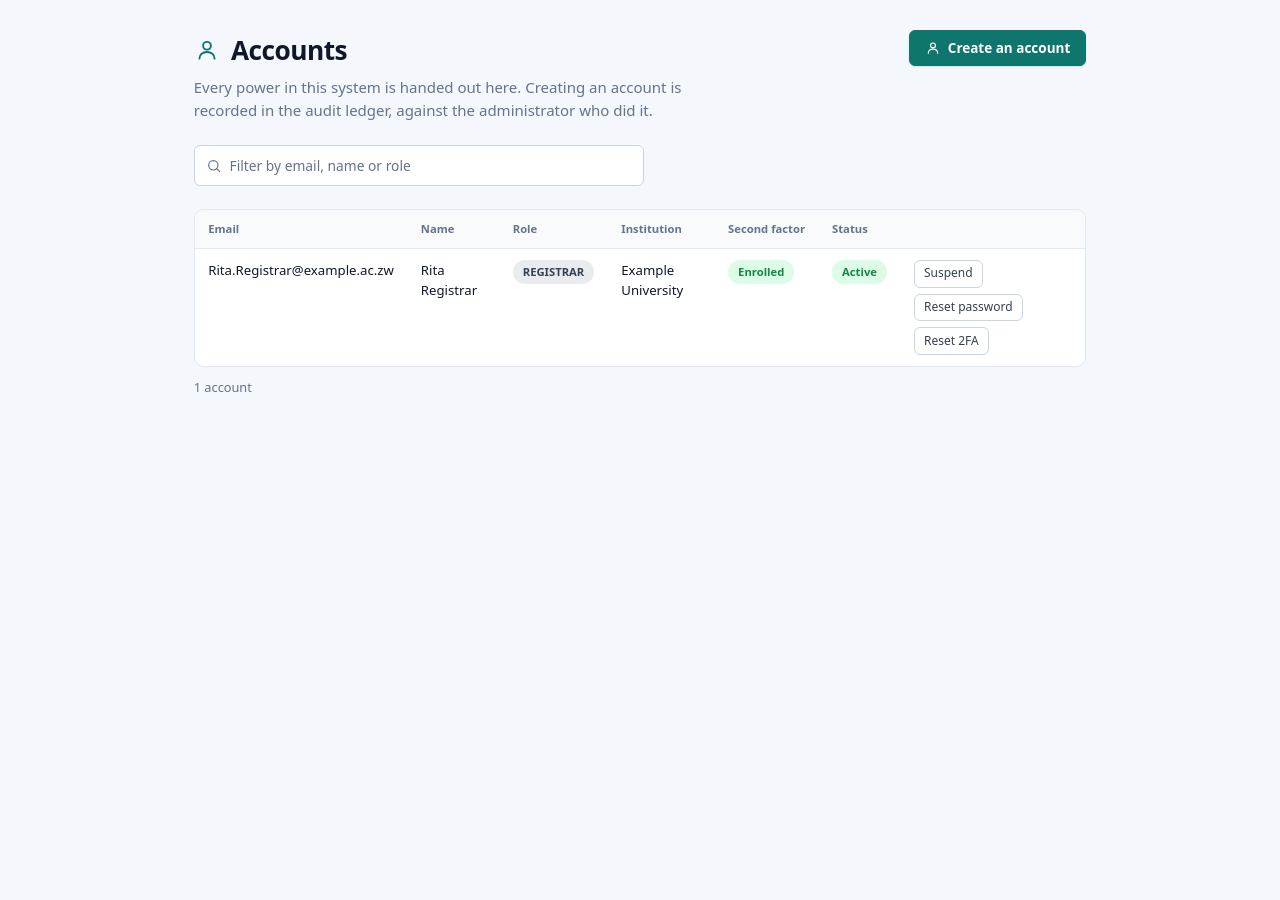
UserListComponent › the row actions › sends nothing when the administrator backs out
Click the button "Suspend" at point(948, 274), box left=914, top=260, right=983, bottom=288
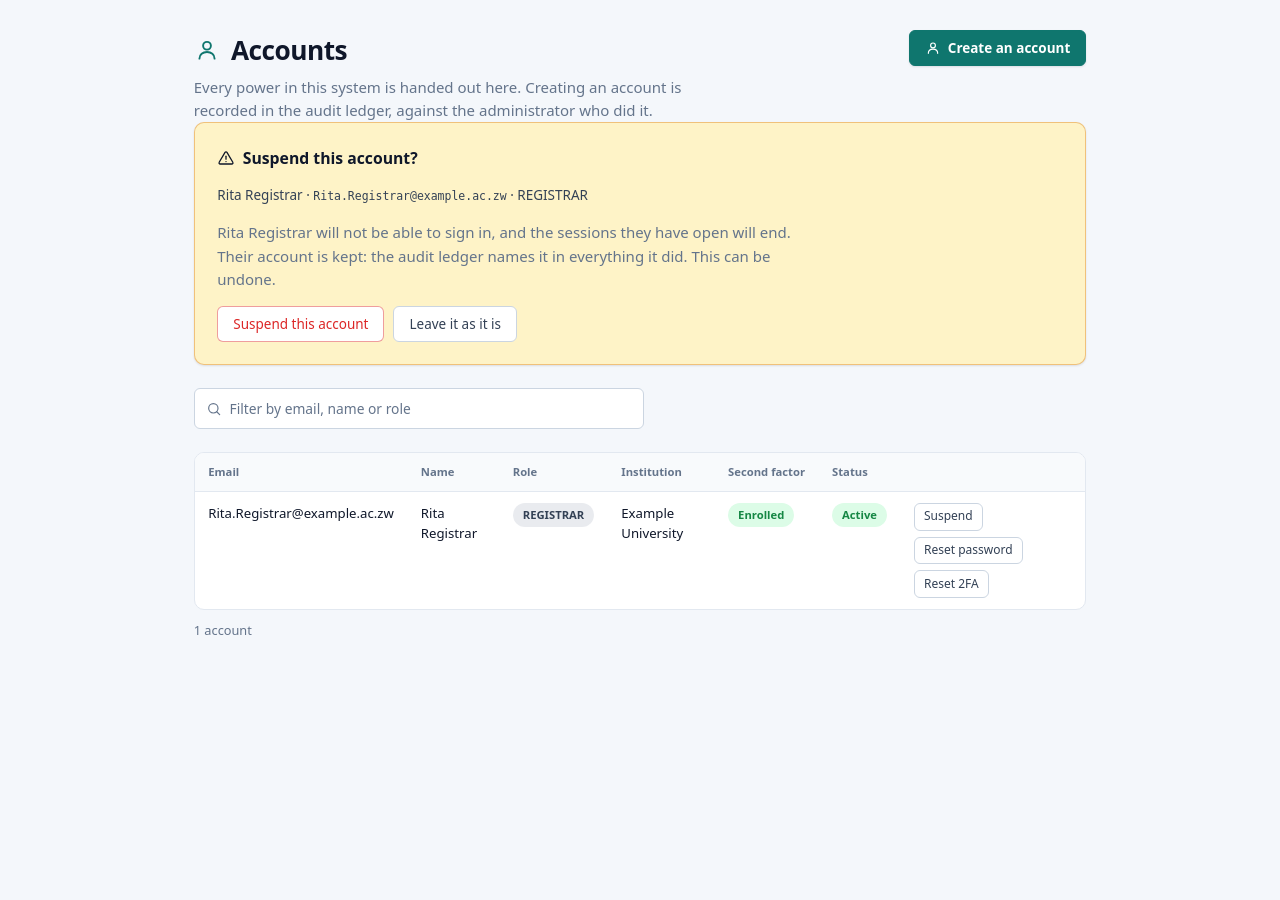
Click the button "Leave it as it is" at point(455, 324), box left=394, top=306, right=517, bottom=342
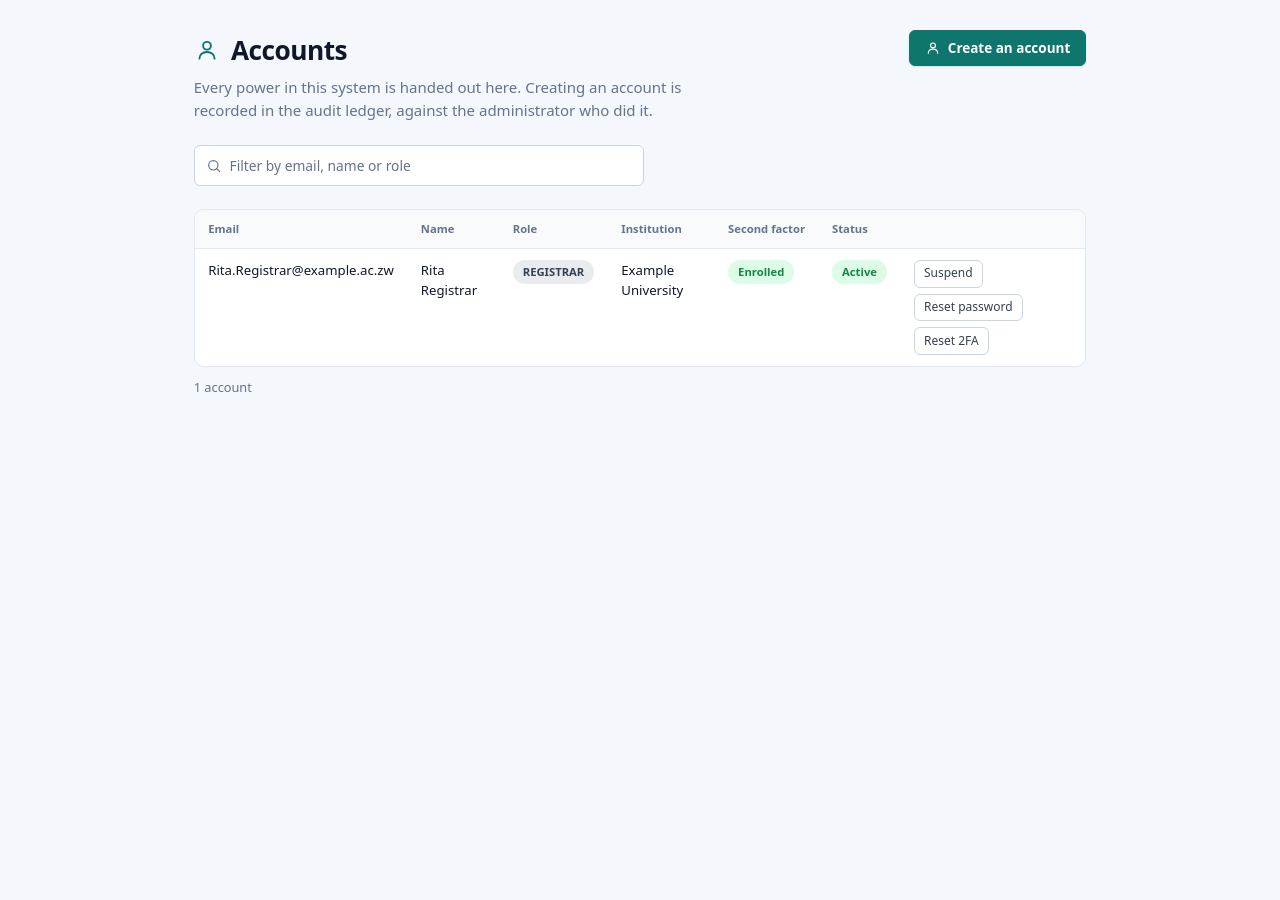
Expected: the text "Suspend this account?" is gone
